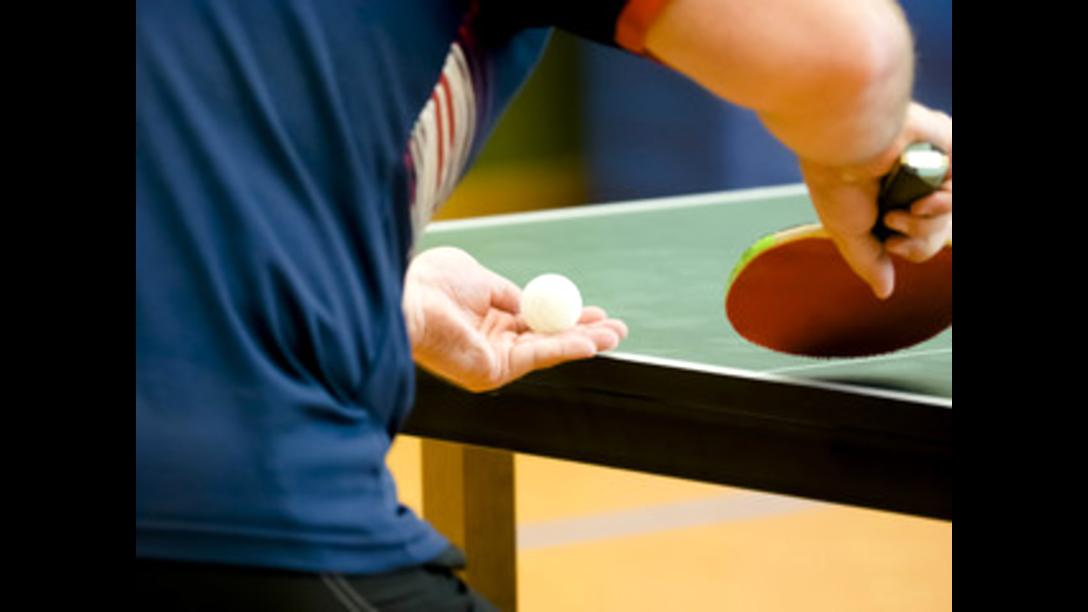Table-Tennis-Ball: (524, 274, 580, 328)
